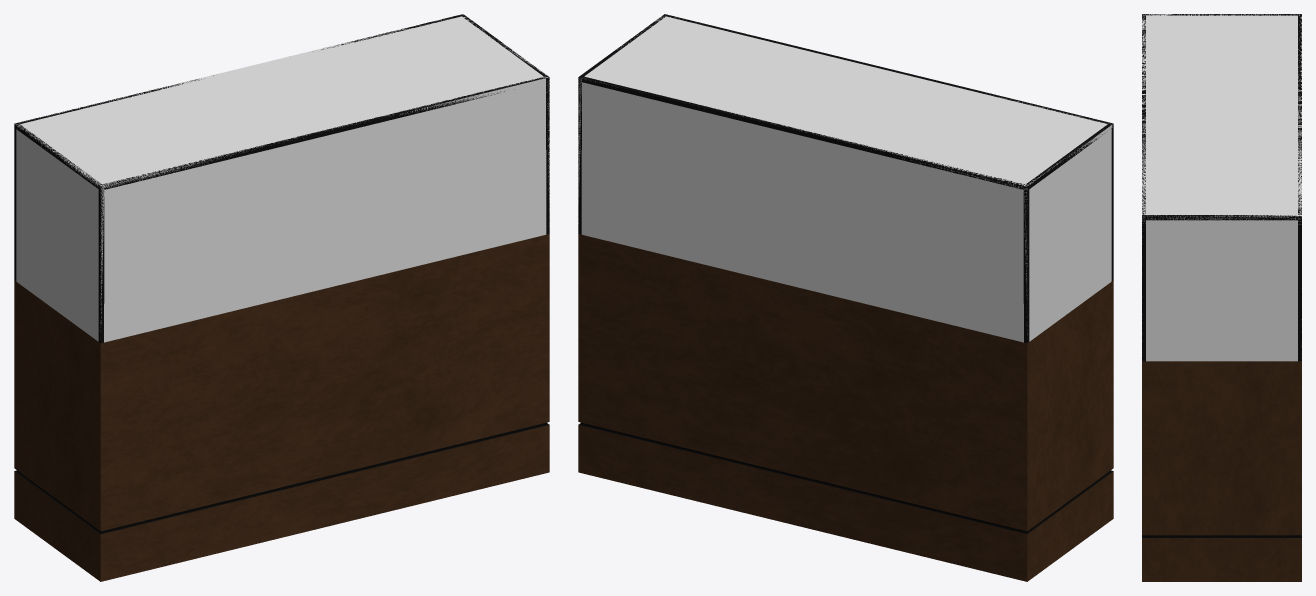
File: glass_case2.fbx
The picture shows the model from 3 angles, left to right: view 1: azimuth 30°, elevation 25°; view 2: azimuth 150°, elevation 25°; view 3: azimuth 270°, elevation 25°; orthographic projection. The views are drawn at different scales.
Visible parts, largest first — view 1: base, glass; view 2: base, glass; view 3: glass, base.
Part boxes in pixels (x1,y1,x2,y2): base: (14,234,549,581); glass: (14,14,549,343); base: (578,234,1113,581); glass: (578,14,1113,343); glass: (1142,14,1301,361); base: (1142,361,1301,581).
Size of the model in its own units: 600 by 505 by 200.
4 materials, 1 textured.
